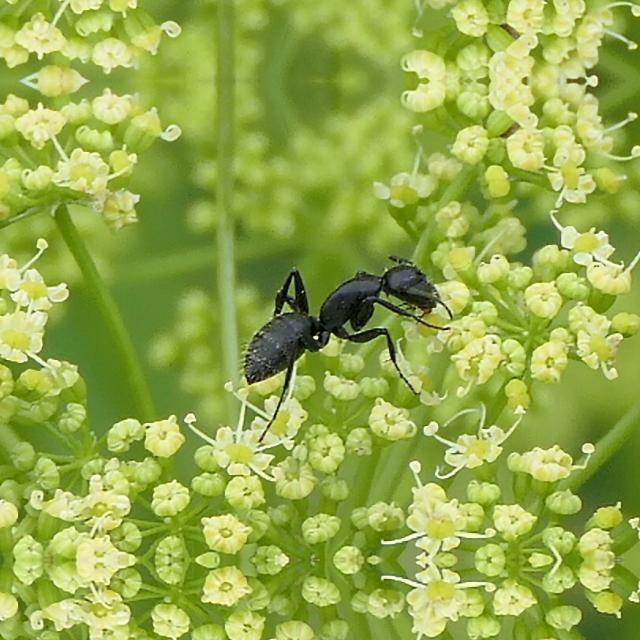Camponotus: (196, 212, 484, 432)
